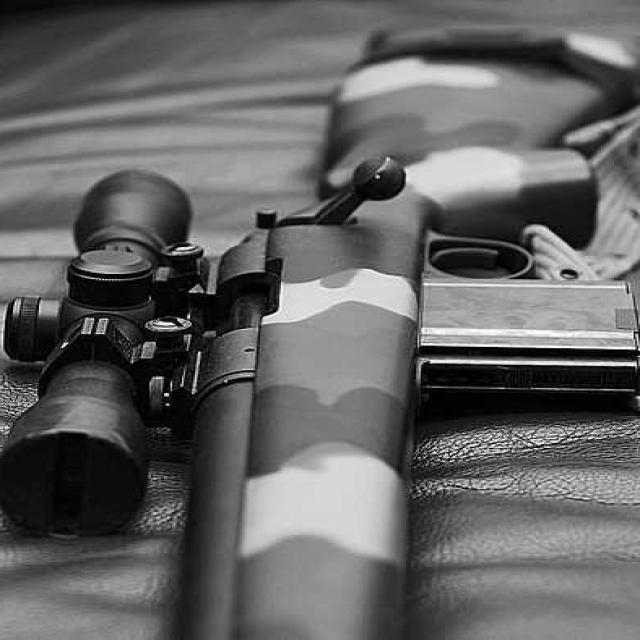heavyweapon: (9, 17, 640, 640)
